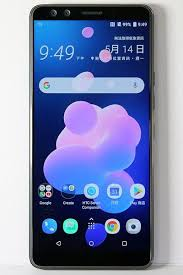htc: (23, 1, 157, 271)
